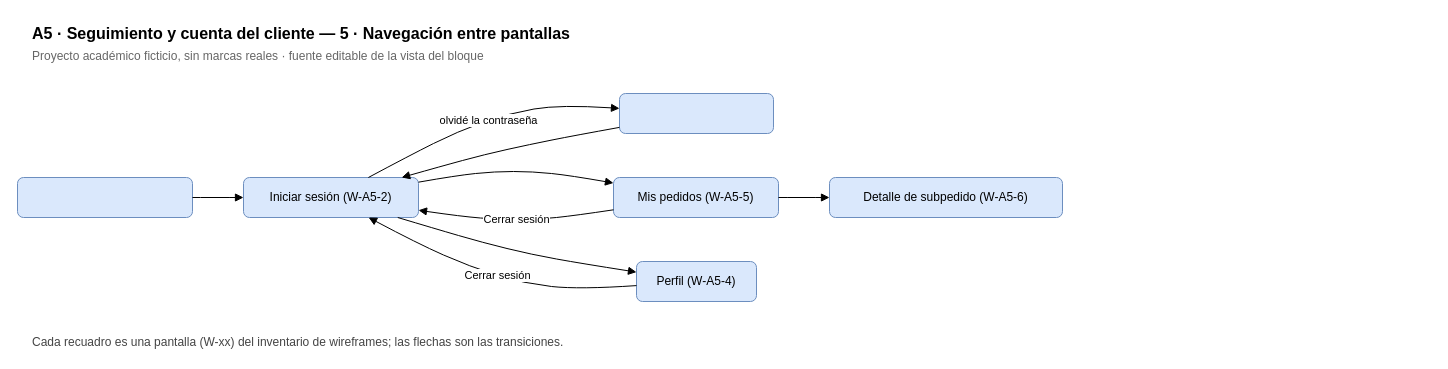
This 1448x369 diagram has some shape labels left out. Here are the shapes that lost their labels. From the top down, the centre of each, then its label:
At point (696, 113): "Recuperar (W-A5-3)".
At point (104, 197): "Crear cuenta (W-A5-1)".
